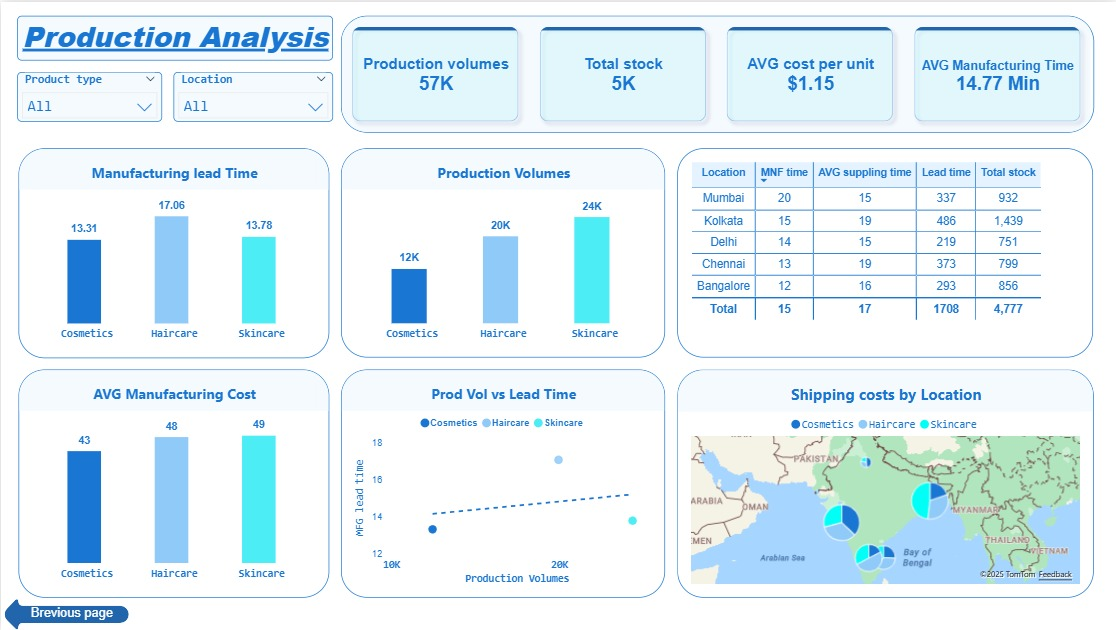

The page's visual inventory and layout, read from the dashboard file:
{"tool":"powerbi","page":{"name":"production","canvas":[1274,717],"ordinal":2},"visuals":[{"type":"cardVisual","fields":{"Data":["Sum(supply_chain_data.Production volumes)","Key Measures.Total stock","Key Measures.AVG cost per unit","Key Measures.AVG Manufacturing Time (Card)"]},"box":[388.7,15.5,860.6,133.8],"z":0},{"type":"clusteredColumnChart","title":"Manufacturing lead Time","fields":{"Category":["supply_chain_data.Product type"],"Y":["Avg(supply_chain_data.Manufacturing lead time)"]},"box":[19.5,167.2,355.3,239.6],"z":1000},{"type":"tableEx","fields":{"Values":["supply_chain_data.Location","Key Measures.AVG manufacturing time","Key Measures.AVG suppling lead time","Sum(supply_chain_data.Lead time)","Key Measures.Total stock"]},"box":[773.3,167.6,475,239.4],"z":2000},{"type":"azureMap","title":"Shipping costs by Location","fields":{"Category":["supply_chain_data.Location"],"Size":["Sum(supply_chain_data.Shipping costs)"],"Series":["supply_chain_data.Product type"]},"box":[773.3,419.7,476.1,260.6],"z":3000},{"type":"textbox","box":[18.1,15.3,361.1,51.6],"z":4000},{"type":"actionButton","box":[0,679.8,146.1,39.6],"z":5000},{"type":"slicer","fields":{"Values":["supply_chain_data.Product type"]},"box":[18.1,79.5,165.9,57.2],"z":6000},{"type":"slicer","fields":{"Values":["supply_chain_data.Location"]},"box":[196.6,79.5,182.7,57.2],"z":7000},{"type":"clusteredColumnChart","title":"AVG Manufacturing Cost","fields":{"Y":["Avg(supply_chain_data.Manufacturing costs)"],"Category":["supply_chain_data.Product type"]},"box":[19.5,419.4,355.3,260.5],"z":8000},{"type":"clusteredColumnChart","title":"Production Volumes","fields":{"Y":["Sum(supply_chain_data.Production volumes)"],"Category":["supply_chain_data.Product type"]},"box":[388.7,167.6,370.4,239.4],"z":9000},{"type":"scatterChart","title":"Prod Vol vs Lead Time","fields":{"Y":["Avg(supply_chain_data.Manufacturing lead time)"],"X":["Sum(supply_chain_data.Production volumes)"],"Series":["supply_chain_data.Product type"],"Category":["supply_chain_data.Product type"]},"box":[388.7,419.7,370.4,260.6],"z":10000}]}

Visuals, with their boxes in screenshot pixels (x1, y1, x2, y2), scaled from the page's 1274x717 canvas onto the 1116x630 screenshot:
cardVisual - Sum(supply_chain_data.Production volumes) x Key Measures.Total stock: pyautogui.locateOnScreen(340, 14, 1094, 131)
"Manufacturing lead Time" clusteredColumnChart: pyautogui.locateOnScreen(17, 147, 328, 357)
tableEx - supply_chain_data.Location x Key Measures.AVG manufacturing time: pyautogui.locateOnScreen(677, 147, 1093, 358)
"Shipping costs by Location" azureMap: pyautogui.locateOnScreen(677, 369, 1094, 598)
textbox: pyautogui.locateOnScreen(16, 13, 332, 59)
actionButton: pyautogui.locateOnScreen(0, 597, 128, 629)
slicer - supply_chain_data.Product type: pyautogui.locateOnScreen(16, 70, 161, 120)
slicer - supply_chain_data.Location: pyautogui.locateOnScreen(172, 70, 332, 120)
"AVG Manufacturing Cost" clusteredColumnChart: pyautogui.locateOnScreen(17, 369, 328, 597)
"Production Volumes" clusteredColumnChart: pyautogui.locateOnScreen(340, 147, 665, 358)
"Prod Vol vs Lead Time" scatterChart: pyautogui.locateOnScreen(340, 369, 665, 598)
